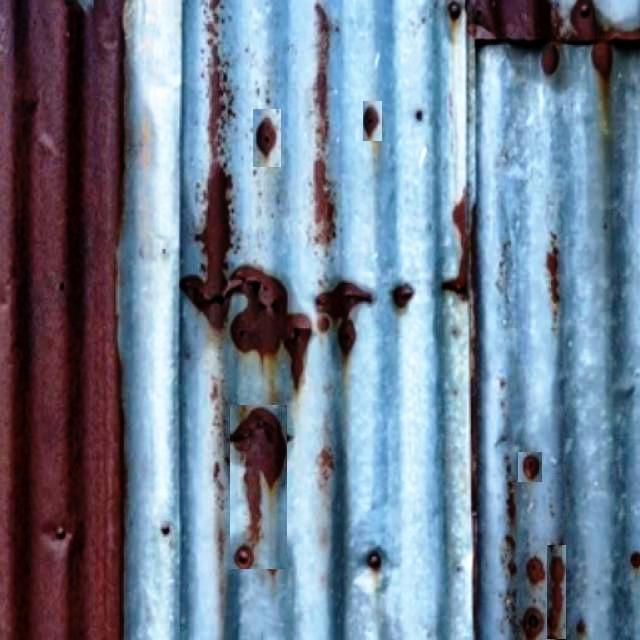Corrosion: (0, 0, 123, 640), (223, 266, 312, 388), (181, 162, 230, 328), (230, 408, 287, 548), (316, 282, 374, 354), (473, 0, 553, 42), (443, 190, 472, 294), (316, 282, 374, 318), (548, 546, 568, 640), (314, 159, 336, 244), (253, 109, 282, 166), (547, 233, 561, 334), (572, 0, 600, 42), (363, 100, 383, 140), (519, 453, 543, 484), (594, 41, 614, 78), (524, 609, 546, 640), (600, 29, 640, 44), (543, 41, 560, 74), (527, 558, 547, 586), (393, 283, 415, 308)
